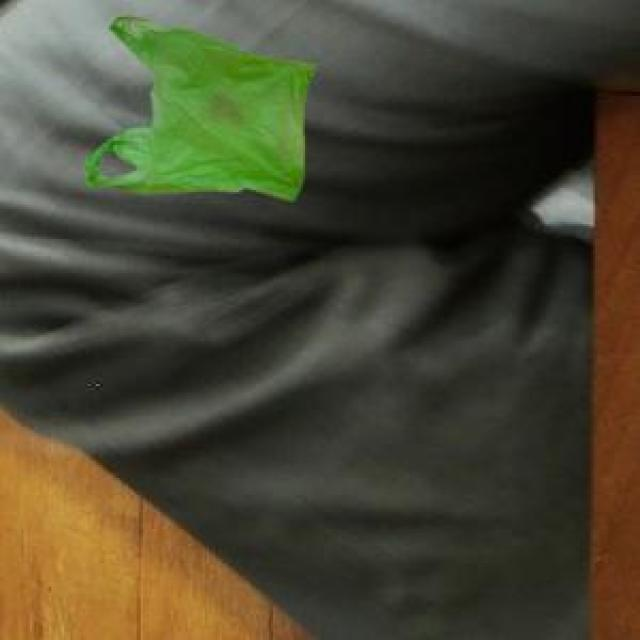waste: (84, 19, 312, 202)
